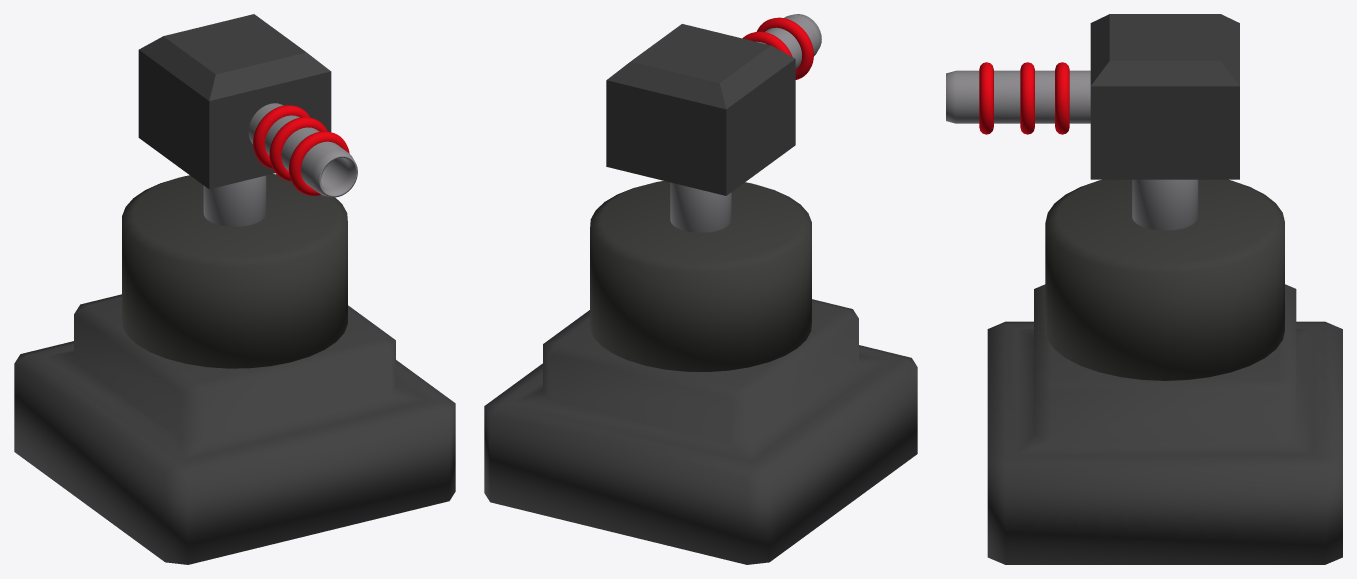
File: basic tower.fbx
3 views of the same model, side by side, from view 1: azimuth 30°, elevation 25°; view 2: azimuth 150°, elevation 25°; view 3: azimuth 270°, elevation 25° (orthographic). The views are drawn at different scales.
Visible parts, largest first — view 1: Cube, Cylinder, Cube.001, Cylinder.002, Cylinder.001, Torus.002, Torus.001, Torus; view 2: Cube, Cylinder, Cube.001, Cylinder.001, Cylinder.002, Torus.002; view 3: Cube, Cylinder, Cube.001, Cylinder.002, Cylinder.001, Torus, Torus.001, Torus.002.
Boxes of the visible parts, <box> form: Cube: <box>14,294,455,564</box>; Cylinder: <box>122,174,347,368</box>; Cube.001: <box>138,14,331,189</box>; Cylinder.002: <box>248,103,357,197</box>; Cylinder.001: <box>203,175,266,226</box>; Torus.002: <box>288,131,349,195</box>; Torus.001: <box>269,117,327,181</box>; Torus: <box>253,105,309,168</box>; Cube: <box>484,299,917,564</box>; Cylinder: <box>590,181,811,371</box>; Cube.001: <box>606,24,795,195</box>; Cylinder.001: <box>670,182,731,232</box>; Cylinder.002: <box>756,14,821,69</box>; Torus.002: <box>756,17,813,79</box>; Cube: <box>987,284,1342,564</box>; Cylinder: <box>1045,179,1284,380</box>; Cube.001: <box>1090,14,1239,179</box>; Cylinder.002: <box>946,70,1090,123</box>; Cylinder.001: <box>1132,179,1198,230</box>; Torus: <box>1055,62,1069,134</box>; Torus.001: <box>1020,62,1034,134</box>; Torus.002: <box>979,62,993,134</box>.
Bounding box in the file's own units: 476 × 677 × 532.
